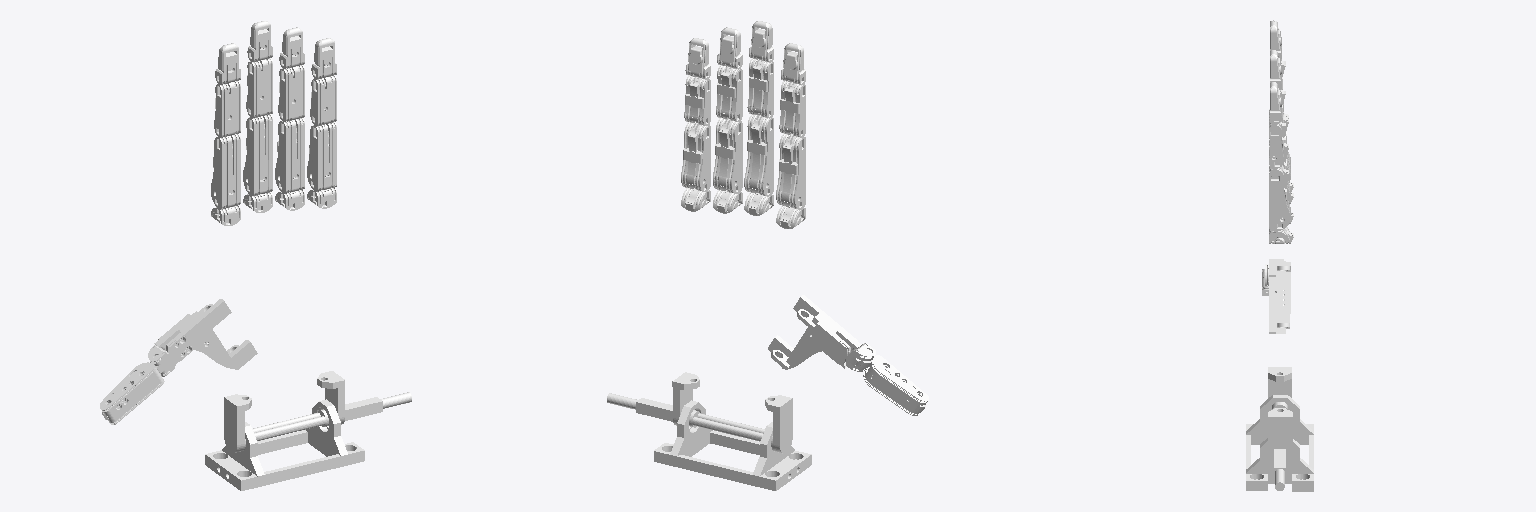
--- Render facts (derived) ---
The picture shows the robot from 3 angles, left to right: view 1: azimuth 30°, elevation 25°; view 2: azimuth 150°, elevation 25°; view 3: azimuth 270°, elevation 25°; orthographic projection.
Model converted_robot with 99 links and 98 joints (38 revolute, 60 fixed), rooted at hand_root, posed every joint at zero.
Visible links, largest first — view 1: wrist_1, wrist_2, thumb_base, middle_pp, thumb_mp, index_pp, ring_pp, pinky_pp, middle_mp, index_mp, ring_mp, pinky_mp (+5 smaller); view 2: wrist_1, wrist_2, thumb_base, middle_pp, ring_pp, thumb_mp, index_pp, pinky_pp, middle_mp, ring_mp, index_mp, pinky_mp (+7 smaller); view 3: wrist_1, wrist_2, thumb_base, pinky_pp, pinky_mp.
Boxes of the visible links, bbox=[...] form: wrist_1: bbox=[205, 399, 364, 490]; wrist_2: bbox=[224, 371, 411, 452]; thumb_base: bbox=[154, 299, 257, 369]; middle_pp: bbox=[243, 114, 272, 195]; thumb_mp: bbox=[100, 362, 164, 424]; index_pp: bbox=[211, 134, 240, 209]; ring_pp: bbox=[275, 118, 304, 193]; pinky_pp: bbox=[307, 122, 336, 191]; middle_mp: bbox=[246, 58, 272, 118]; index_mp: bbox=[214, 81, 240, 137]; ring_mp: bbox=[278, 65, 304, 121]; pinky_mp: bbox=[310, 75, 336, 126]; wrist_1: bbox=[654, 400, 811, 490]; wrist_2: bbox=[607, 372, 792, 453]; thumb_base: bbox=[768, 295, 861, 369]; middle_pp: bbox=[744, 114, 773, 196]; ring_pp: bbox=[713, 118, 742, 193]; thumb_mp: bbox=[863, 355, 928, 415]; index_pp: bbox=[776, 133, 805, 209]; pinky_pp: bbox=[681, 122, 710, 191]; middle_mp: bbox=[747, 58, 773, 118]; ring_mp: bbox=[716, 65, 742, 121]; index_mp: bbox=[779, 81, 805, 137]; pinky_mp: bbox=[684, 75, 710, 125]; wrist_1: bbox=[1246, 395, 1313, 491]; wrist_2: bbox=[1268, 367, 1292, 490]; thumb_base: bbox=[1269, 259, 1290, 333]; pinky_pp: bbox=[1269, 165, 1290, 230]; pinky_mp: bbox=[1269, 121, 1285, 168].
Bounding box of the posed robot: 0.2118 × 0.042 × 0.2889 m (x, y, z).
Meshes: 24 distinct files referenced, 22 mesh visuals loaded (22 binary STL); not drawn: 2 (reference not matched to a file when rendering).

URDF robot description (converted_robot):
<?xml version="1.0" ?>
<robot name="converted_robot">
   <link name="hand_root">
      <inertial>
         <origin xyz="0.0 0.0 0.0" rpy="0.0 0.0 0.0"/>
         <mass value="0.0"/>
         <inertia ixx="0.0" iyy="0.0" izz="0.0" ixy="0" ixz="0" iyz="0"/>
      </inertial>
   </link>
   <link name="tower">
      <inertial>
         <origin xyz="-0.012935936040143856 -0.1250798428773428 -0.0001711974765966958" rpy="1.5378790315260968 -1.5027760115029016 -2.9935622097884105"/>
         <mass value="0.791434072813212"/>
         <inertia ixx="0.0014927212233772481" iyy="0.0014084035095714637" izz="0.0005242023751306965" ixy="0" ixz="0" iyz="0"/>
      </inertial>
      <visual name="tower">
         <origin xyz="-0.012935936040143856 -0.1250798428773428 -0.0001711974765966958" rpy="1.5378790315260975 -1.5027760115029016 -2.9935622097884114"/>
         <geometry>
            <mesh filename="package://viz/models/URDF_Simulation/converted_tower.stl"/>
         </geometry>
         <material name="white"/>
      </visual>
   </link>
   <link name="root2tower_fixed_jointbody">
      <inertial>
         <origin xyz="0.0 0.0 0.0" rpy="0.0 0.0 0.0"/>
         <mass value="0.001"/>
         <inertia ixx="1e-09" iyy="1e-09" izz="1e-09" ixy="0" ixz="0" iyz="0"/>
      </inertial>
   </link>
   <joint type="fixed" name="root2tower_fixed">
      <parent link="hand_root"/>
      <child link="root2tower_fixed_jointbody"/>
      <origin xyz="-0.0132 0.0 0.017" rpy="1.5715926535897906 2.113124342173478e-09 3.1415900000008414"/>
   </joint>
   <joint type="fixed" name="root2tower_fixed_offset">
      <parent link="root2tower_fixed_jointbody"/>
      <child link="tower"/>
      <origin xyz="-0.0 -0.0 -0.0" rpy="0.0 0.0 0.0"/>
   </joint>
   <link name="wrist_1">
      <inertial>
         <origin xyz="-0.014332709818484647 -0.06084959605214876 0.00010921642133937277" rpy="1.5708004130834685 1.528474215972686e-05 1.5650097032208263"/>
         <mass value="0.058899626515319804"/>
         <inertia ixx="3.753569655681751e-05" iyy="3.3836482834552355e-05" izz="9.284974380360733e-06" ixy="0" ixz="0" iyz="0"/>
      </inertial>
      <visual name="wrist_3">
         <origin xyz="-0.014332709818484647 -0.06084959605214876 0.00010921642133937277" rpy="1.5708004130834687 1.5284742159948905e-05 1.5650097032208266"/>
         <geometry>
            <mesh filename="package://viz/models/URDF_Simulation/converted_wrist_3.stl"/>
         </geometry>
         <material name="white"/>
      </visual>
   </link>
   <link name="tower2wrist_1_fixed_jointbody">
      <inertial>
         <origin xyz="0.0 0.0 0.0" rpy="0.0 0.0 0.0"/>
         <mass value="0.001"/>
         <inertia ixx="1e-09" iyy="1e-09" izz="1e-09" ixy="0" ixz="0" iyz="0"/>
      </inertial>
   </link>
   <joint type="fixed" name="tower2wrist_1_fixed">
      <parent link="tower"/>
      <child link="tower2wrist_1_fixed_jointbody"/>
      <origin xyz="0.0 0.0 0.0" rpy="0.0 0.0 0.0"/>
   </joint>
   <joint type="fixed" name="tower2wrist_1_fixed_offset">
      <parent link="tower2wrist_1_fixed_jointbody"/>
      <child link="wrist_1"/>
      <origin xyz="-0.0 -0.0 -0.0" rpy="0.0 0.0 0.0"/>
   </joint>
   <link name="wrist_2">
      <inertial>
         <origin xyz="-0.011749586365455653 -0.03917818231353612 0.00011052945291615456" rpy="-1.8092865401767204 -1.5661853121132732 -1.2638218544209279"/>
         <mass value="0.020757970653264464"/>
         <inertia ixx="2.3183204340638643e-05" iyy="2.2130131511678158e-05" izz="1.4714793045715701e-06" ixy="0" ixz="0" iyz="0"/>
      </inertial>
      <visual name="wrist_1">
         <origin xyz="-0.04685505325225877 -0.034649420343556225 0.0002783448473589519" rpy="1.5707963267948966 0.0 2.987432783863472"/>
         <geometry>
            <mesh filename="package://viz/models/URDF_Simulation/converted_wrist_1.stl"/>
         </geometry>
         <material name="white"/>
      </visual>
      <visual name="wrist_2">
         <origin xyz="-0.004873884468205962 -0.04006517855744275 7.766139194779857e-05" rpy="1.3548527125878218 -1.5707870578414207 1.9119197405906991"/>
         <geometry>
            <mesh filename="package://viz/models/URDF_Simulation/converted_wrist_2.stl"/>
         </geometry>
         <material name="white"/>
      </visual>
   </link>
   <link name="wrist_jointbody">
      <inertial>
         <origin xyz="0.0 0.0 0.0" rpy="0.0 0.0 0.0"/>
         <mass value="0.001"/>
         <inertia ixx="1e-09" iyy="1e-09" izz="1e-09" ixy="0" ixz="0" iyz="0"/>
      </inertial>
   </link>
   <joint type="revolute" name="wrist">
      <parent link="wrist_1"/>
      <child link="wrist_jointbody"/>
      <origin xyz="0.0 -0.0463 0.0" rpy="0.0 0.0 0.0"/>
      <axis xyz="1.0 0.0 0.0"/>
      <limit lower="-2.27" upper="2.27" effort="100" velocity="100"/>
   </joint>
   <joint type="fixed" name="wrist_offset">
      <parent link="wrist_jointbody"/>
      <child link="wrist_2"/>
      <origin xyz="-0.0 0.0463 -0.0" rpy="0.0 0.0 0.0"/>
   </joint>
   <link name="palm">
      <inertial>
         <origin xyz="-0.009750183589572366 0.04021403488529142 -0.00039237105510929893" rpy="2.3172560848423656 -1.562874237700241 2.192255222809746"/>
         <mass value="0.16567872925570942"/>
         <inertia ixx="0.0002358825828115673" iyy="0.00017096319828277548" izz="6.854952483029862e-05" ixy="0" ixz="0" iyz="0"/>
      </inertial>
      <visual name="palm_tower">
         <origin xyz="-0.009750183589572366 0.04021403488529142 -0.00039237105510929893" rpy="2.3172560848423656 -1.562874237700241 2.192255222809746"/>
         <geometry>
            <mesh filename="package://viz/models/URDF_Simulation/converted_palm_tower.stl"/>
         </geometry>
         <material name="white"/>
      </visual>
   </link>
   <link name="wrist_22palm_fixed_jointbody">
      <inertial>
         <origin xyz="0.0 0.0 0.0" rpy="0.0 0.0 0.0"/>
         <mass value="0.001"/>
         <inertia ixx="1e-09" iyy="1e-09" izz="1e-09" ixy="0" ixz="0" iyz="0"/>
      </inertial>
   </link>
   <joint type="fixed" name="wrist_22palm_fixed">
      <parent link="wrist_2"/>
      <child link="wrist_22palm_fixed_jointbody"/>
      <origin xyz="0.0 0.0 0.0" rpy="0.0 0.0 0.0"/>
   </joint>
   <joint type="fixed" name="wrist_22palm_fixed_offset">
      <parent link="wrist_22palm_fixed_jointbody"/>
      <child link="palm"/>
      <origin xyz="-0.0 -0.0 -0.0" rpy="0.0 0.0 0.0"/>
   </joint>
   <!-- THUMB START -->
   <link name="thumb_base">
      <inertial>
         <origin xyz="-0.05388722858794558 -0.08972924545530461 0.0056400640968846715" rpy="1.1981321937913696 -1.4948979105066995 0.7661853183228415"/>
         <mass value="0.015400950262490496"/>
         <inertia ixx="4.057013831282678e-06" iyy="3.3189900464939896e-06" izz="1.0886313012479005e-06" ixy="0" ixz="0" iyz="0"/>
      </inertial>
      <visual name="thumb_base">
         <!-- <origin xyz="-0.05388722858794558 -0.08972924545530461 0.0056400640968846715" rpy="1.1981321937913676 -1.4948979105066995 0.7661853183228435"/> -->
         <origin xyz="0.01388722858794558 -0.02372924545530461 -0.0026400640968846715" rpy="1.1981321937913676 -1.4948979105066995 0.7661853183228435"/>
         <geometry>
            <mesh filename="package://viz/models/URDF_Simulation/converted_thumb_base.stl"/>
         </geometry>
         <material name="white"/>
      </visual>
   </link>
   <link name="root2thumb_base_jointbody">
      <inertial>
         <origin xyz="0.0 0.0 0.0" rpy="0.0 0.0 0.0"/>
         <mass value="0.001"/>
         <inertia ixx="1e-09" iyy="1e-09" izz="1e-09" ixy="0" ixz="0" iyz="0"/>
      </inertial>
   </link>
   <!-- THUMB -->
   <joint type="revolute" name="root2thumb_base">
      <parent link="palm"/>
      <child link="root2thumb_base_jointbody"/>
      <!-- <origin xyz="0.01810025051214078 0.00810024353395844 0.002000000000000001" rpy="0.0 0.0 1.5707999999999998"/> -->
      <origin xyz="0.01810025051214078 0.00810024353395844 0.002000000000000001" rpy="0.0 0.0 1.5707999999999998"/>
      <axis xyz="-0.872045190552692 0.48942536267945813 0.0"/>
      <limit lower="0.0" upper="2.27" effort="100" velocity="100"/>
   </joint>
   <joint type="fixed" name="root2thumb_base_offset">
      <parent link="root2thumb_base_jointbody"/>
      <child link="thumb_base"/>
      <!-- <origin xyz="0.0682 0.0663 -0.009" rpy="0.0 0.0 0.0"/> -->
      <origin xyz="0 0 0" rpy="0.0 0.0 0.0"/>
   </joint>
<!-- GSIIIIIIIIIIIIIIIIIIIIIIIIIIIIIIIIIIIIIIIIIIIIIIIIIIIIIIIIIIIIIIIIIIIIIIIIIIIIIIII -->

   <!-- THUMBBB -->
   <link name="thumb_um_virt">
      <inertial>
         <origin xyz="0.007088722858794558 -0.00312924545530461 -0.0026400640968846715" rpy="0.0 0.0 0.0"/>
         <mass value="0.001"/>
         <inertia ixx="4e-10" iyy="4e-10" izz="3e-10" ixy="0" ixz="0" iyz="0"/>
      </inertial>
   </link>
   <link name="thumb_abd_virt_jointbody">
      <inertial>
         <origin xyz="0.007088722858794558 -0.00312924545530461 -0.0026400640968846715" rpy="0.0 0.0 0.0"/>
         <mass value="0.001"/>
         <inertia ixx="1e-09" iyy="1e-09" izz="1e-09" ixy="0" ixz="0" iyz="0"/>
      </inertial>
   </link>
   
<!-- MIDDLE THUMB -->
   <joint type="revolute" name="thumb_abd_virt">
      <parent link="thumb_base"/>
      <child link="thumb_abd_virt_jointbody"/>
      <origin xyz="0.007088722858794558 -0.0312924545530461 -0.0026400640968846715" rpy="0.0 0.0 0.0"/>
      <!-- <origin xyz="-0.05696 -0.11383 0.0" rpy="0.0 0.0 0.0"/> -->
      <axis xyz="0.0 0.0 1.0"/>
      <limit lower="-0.523599" upper="0.523599" effort="100" velocity="100"/>
   </joint>

   
   <joint type="fixed" name="thumb_abd_virt_offset">
      <parent link="thumb_abd_virt_jointbody"/>
      <child link="thumb_um_virt"/>
      <!-- <origin xyz="0.05696 0.11383 -0.0" rpy="0.0 0.0 0.0"/> -->
      <origin xyz="0 -0 0" rpy="0.0 0.0 0.0"/>
   </joint>

   
   <link name="thumb_um">
      <inertial>
         <!-- <origin xyz="0.06002974424873159 0.11906183356660797 0.0062186112018148216" rpy="-0.0012484400387758887 0.391076545340286 1.0465689521908192"/> -->
         <!-- <origin xyz="-0.06002974424873159 -0.02906183356660797 0.0062186112018148216" rpy="-0.0012484400387758887 0.391076545340286 1.0465689521908192"/> -->
         <origin xyz="0 0 0" rpy="-0.0012484400387758887 0.391076545340286 1.0465689521908192"/>
         <mass value="0.0020561829545655487"/>
         <inertia ixx="5.3193394084926844e-08" iyy="4.4699706473833634e-08" izz="4.1958930900945313e-08" ixy="0" ixz="0" iyz="0"/>
      </inertial>
      <visual name="thumb_um">
         <origin xyz="0 0 0" rpy="-0.0012484400387758887 0.391076545340286 1.0465689521908192"/>
         <!-- <origin xyz="-0.06002974424873159 -0.04906183356660797 0.0062186112018148216" rpy="-0.0012484400387758887 0.391076545340286 1.0465689521908192"/> -->
         <geometry>
            <mesh filename="package://viz/models/URDF_Simulation/converted_thumb_um.stl"/>
         </geometry>
         <material name="white"/>
      </visual>
   </link>
   <link name="thumb_abd_jointbody">
      <inertial>
         <origin xyz="0.0028088722858794558 -0.0212924545530461 -0.0026400640968846715" rpy="-0.0012484400387758887 0.391076545340286 1.0465689521908192"/>
         <!-- <origin xyz="0.0 0.0 0.0" rpy="0.0 0.0 0.0"/> -->
         <mass value="0.001"/>
         <inertia ixx="1e-09" iyy="1e-09" izz="1e-09" ixy="0" ixz="0" iyz="0"/>
      </inertial>
   </link>
   <joint type="revolute" name="thumb_abd">
      <parent link="thumb_um_virt"/>
      <child link="thumb_abd_jointbody"/>
      <!-- <origin xyz="0.0 0.0 0.0" rpy="0.0 0.0 0.0"/> -->
      <origin xyz="0.0021088722858794558 -0.0212924545530461 -0.0026400640968846715" rpy="0.0 0.0 0.0"/>
      <axis xyz="0.0 0.0 1.0"/>
      <limit lower="-0.523599" upper="0.523599" effort="100" velocity="100"/>
   </joint>
   <joint type="fixed" name="thumb_abd_offset">
      <parent link="thumb_abd_jointbody"/>
      <child link="thumb_um"/>
      <!-- <origin xyz="0.05696 0.11383 -0.0" rpy="0.0 0.0 0.0"/> -->
      <origin xyz="0 0 0" rpy="0.0 0.0 0.0"/>
   </joint>




   <!-- NOOOOOOOOOOOOOOOOOOOOOOOOOOOOOOOOOOOOOOOOOOOOOOOOOOOOOOOOO -->
   <link name="thumb_mp_virt">
      <inertial>
         <!-- <origin xyz="0.009525 -0.041187 0.083647" rpy="-0.22291598477092758 -1.2682876286119864 0.3020329839181935"/> -->
         <origin xyz="0.002088722858794558 -0.0112924545530461 -0.0026400640968846715" rpy="-0.22291598477092758 -1.2682876286119864 0.3020329839181935"/>
         <mass value="0.001"/>
         <inertia ixx="4e-10" iyy="4e-10" izz="3e-10" ixy="0" ixz="0" iyz="0"/>
      </inertial>
   </link>
   <link name="thumb_um2mp_virt_jointbody">
      <inertial>
         <origin xyz="0.002088722858794558 -0.0192924545530461 -0.0026400640968846715" rpy="0.0 0.0 0.0"/>
         <mass value="0.001"/>
         <inertia ixx="1e-09" iyy="1e-09" izz="1e-09" ixy="0" ixz="0" iyz="0"/>
      </inertial>
   </link>
   <joint type="revolute" name="thumb_um2mp_virt">
      <parent link="thumb_um"/>
      <child link="thumb_um2mp_virt_jointbody"/>
      <origin xyz="-0.0 -0.0 0.0" rpy="0.0 0.0 0.0"/>
      <!-- <origin xyz="-0.072947 -0.114166 0.008" rpy="0.0 0.0 0.0"/> -->
      <axis xyz="-0.872045190552692 0.48942536267945813 0.0"/>
      <limit lower="-0.16" upper="1.308" effort="100" velocity="100"/>
   </joint>
   <joint type="fixed" name="thumb_um2mp_virt_offset">
      <parent link="thumb_um2mp_virt_jointbody"/>
      <child link="thumb_mp_virt"/>
      <!-- <origin xyz="0.072947 0.114166 -0.008" rpy="0.0 0.0 0.0"/> -->
      <origin xyz="0.0 0.0 -0.0" rpy="0.0 0.0 0.0"/>
   </joint>

   <link name="thumb_mp">
      <inertial>
         <origin xyz="-0.01038088722858794558 -0.0512924545530461 -0.0026400640968846715" rpy="2.9311721332498637 -1.5138717843315774 -1.881310598490373"/>
         <mass value="0.007559331420198066"/>
         <inertia ixx="9.573996733464855e-07" iyy="9.284932904903027e-07" izz="1.7221260520814514e-07" ixy="0" ixz="0" iyz="0"/>
      </inertial>
      <visual name="thumb_mp">
         <origin xyz="0 0 0" rpy="2.9311721332498664 -1.5138717843315772 -1.8813105984903749"/>
         <!-- <origin xyz="-0.07215929044573305 -0.14052795432320075 0.00551798779969882" rpy="2.9311721332498664 -1.5138717843315772 -1.8813105984903749"/> -->
         <geometry>
            <mesh filename="package://viz/models/URDF_Simulation/converted_thumb_mp.stl"/>
         </geometry>
         <material name="white"/>
      </visual>
   </link>
   <link name="thumb_um2mp_jointbody">
      <inertial>
         <!-- <origin xyz="0.0 0.0 0.0" rpy="0.0 0.0 0.0"/> -->
         <origin xyz="-0.01438088722858794558 -0.0912924545530461 -0.0026400640968846715" rpy="0.0 0.0 0.0"/>
         <mass value="0.001"/>
         <inertia ixx="1e-09" iyy="1e-09" izz="1e-09" ixy="0" ixz="0" iyz="0"/>
      </inertial>
   </link>
   <joint type="revolute" name="thumb_um2mp">
      <parent link="thumb_mp_virt"/>
      <child link="thumb_um2mp_jointbody"/>
      <origin xyz="-0.01438088722858794558 -0.0212924545530461 -0.0026400640968846715" rpy="0.0 0.0 0.0"/>
      <!-- <origin xyz="-0.062947 -0.124166 0.008" rpy="0.0 0.0 0.0"/> -->
      <axis xyz="-0.872045190552692 0.48942536267945813 0.0"/>
      <limit lower="-0.16" upper="1.308" effort="100" velocity="100"/>
   </joint>
   <joint type="fixed" name="thumb_um2mp_offset">
      <parent link="thumb_um2mp_jointbody"/>
      <child link="thumb_mp"/>
      <origin xyz="0 0 0" rpy="0.0 0.0 0.0"/>
      <!-- <origin xyz="0.062947 0.124166 -0.008" rpy="0.0 0.0 0.0"/> -->
   </joint>




   <!-- THUMB END -->
   <link name="index_um_virt">
      <inertial>
         <origin xyz="0.0 0.0 0.0" rpy="0.0 0.0 0.0"/>
         <mass value="0.001"/>
         <inertia ixx="4e-10" iyy="4e-10" izz="3e-10" ixy="0" ixz="0" iyz="0"/>
      </inertial>
   </link>
   <link name="index_abd_virt_jointbody">
      <inertial>
         <origin xyz="0.0 0.0 0.0" rpy="0.0 0.0 0.0"/>
         <mass value="0.001"/>
         <inertia ixx="1e-09" iyy="1e-09" izz="1e-09" ixy="0" ixz="0" iyz="0"/>
      </inertial>
   </link>
   <joint type="revolute" name="index_abd_virt">
      <parent link="palm"/>
      <child link="index_abd_virt_jointbody"/>
      <origin xyz="0.0250405 0.0852 0.0" rpy="-1.5707963267948966 1.5707963267948966 0.0"/>
      <axis xyz="1.0 0.0 0.0"/>
      <limit lower="-0.264" upper="0.264" effort="100" velocity="100"/>
   </joint>
   <joint type="fixed" name="index_abd_virt_offset">
      <parent link="index_abd_virt_jointbody"/>
      <child link="index_um_virt"/>
      <origin xyz="-0.0 -0.0 -0.0" rpy="0.0 0.0 0.0"/>
   </joint>
   <link name="index_um">
      <inertial>
         <origin xyz="0.0003158098365906876 -0.00022882513673609314 -0.0036213650800712305" rpy="3.11344183213456 -1.2906456267839208 -3.102620114783569"/>
         <mass value="0.0017045161564725113"/>
         <inertia ixx="4.089294671130922e-08" iyy="3.323975046971373e-08" izz="2.9482536116204133e-08" ixy="0" ixz="0" iyz="0"/>
      </inertial>
      <visual name="index_um">
         <origin xyz="0.0003158098365906876 -0.00022882513673609314 -0.0036213650800712305" rpy="3.11344183213456 -1.2906456267839206 -3.102620114783569"/>
         <geometry>
            <mesh filename="package://viz/models/URDF_Simulation/converted_index_um.stl"/>
         </geometry>
         <material name="white"/>
      </visual>
   </link>
   <link name="index_abd_jointbody">
      <inertial>
         <origin xyz="0.0 0.0 0.0" rpy="0.0 0.0 0.0"/>
         <mass value="0.001"/>
         <inertia ixx="1e-09" iyy="1e-09" izz="1e-09" ixy="0" ixz="0" iyz="0"/>
      </inertial>
   </link>
   <joint type="revolute" name="index_abd">
      <parent link="index_um_virt"/>
      <child link="index_abd_jointbody"/>
      <origin xyz="0.0 0.0 0.018" rpy="0.0 0.0 0.0"/>
      <axis xyz="1.0 0.0 0.0"/>
      <limit lower="-0.264" upper="0.264" effort="100" velocity="100"/>
   </joint>
   <joint type="fixed" name="index_abd_offset">
      <parent link="index_abd_jointbody"/>
      <child link="index_um"/>
      <origin xyz="-0.0 -0.0 -0.0" rpy="0.0 0.0 0.0"/>
   </joint>
   <link name="index_pp_virt">
      <inertial>
         <origin xyz="0.0 0.0 0.0" rpy="0.0 0.0 0.0"/>
         <mass value="0.001"/>
         <inertia ixx="4e-10" iyy="4e-10" izz="3e-10" ixy="0" ixz="0" iyz="0"/>
      </inertial>
   </link>
   <link name="root2index_pp_virt_jointbody">
      <inertial>
         <origin xyz="0.0 0.0 0.0" rpy="0.0 0.0 0.0"/>
         <mass value="0.001"/>
         <inertia ixx="1e-09" iyy="1e-09" izz="1e-09" ixy="0" ixz="0" iyz="0"/>
      </inertial>
   </link>
   <joint type="revolute" name="root2index_pp_virt">
      <parent link="index_um"/>
      <child link="root2index_pp_virt_jointbody"/>
      <origin xyz="0.00270000102 5.9952065978308155e-19 -0.00743303472" rpy="0.0 0.0 -1.5707963267948963"/>
      <axis xyz="1.0 0.0 0.0"/>
      <limit lower="-0.157" upper="0.829" effort="100" velocity="100"/>
   </joint>
   <joint type="fixed" name="root2index_pp_virt_offset">
      <parent link="root2index_pp_virt_jointbody"/>
      <child link="index_pp_virt"/>
      <origin xyz="-0.0 -0.00270000102 -0.0" rpy="0.0 0.0 0.0"/>
   </joint>
   <link name="index_pp">
      <inertial>
         <origin xyz="0.0001596722768568773 0.0010995555377848291 0.01288169966540817" rpy="-0.0005635947558751964 0.04346039485505382 1.5731856208599835"/>
         <mass value="0.006934011983539235"/>
         <inertia ixx="1.1618492939118344e-06" iyy="1.1338221765005137e-06" izz="1.5329642762575548e-07" ixy="0" ixz="0" iyz="0"/>
      </inertial>
      <visual name="index_pp">
         <origin xyz="0.0001596722768568773 0.0010995555377848291 0.01288169966540817" rpy="-0.0005635947558753074 0.0434603948550536 1.5731856208599835"/>
         <geometry>
            <mesh filename="package://viz/models/URDF_Simulation/converted_index_pp.stl"/>
         </geometry>
         <material name="white"/>
      </visual>
   </link>
   <link name="root2index_pp_jointbody">
      <inertial>
         <origin xyz="0.0 0.0 0.0" rpy="0.0 0.0 0.0"/>
         <mass value="0.001"/>
         <inertia ixx="1e-09" iyy="1e-09" izz="1e-09" ixy="0" ixz="0" iyz="0"/>
      </inertial>
   </link>
   <joint type="revolute" name="root2index_pp">
      <parent link="index_pp_virt"/>
      <child link="root2index_pp_jointbody"/>
      <origin xyz="0.0 0.00250000102 0.018" rpy="0.0 0.0 0.0"/>
      <axis xyz="1.0 0.0 0.0"/>
      <limit lower="-0.157" upper="0.829" effort="100" velocity="100"/>
   </joint>
   <joint type="fixed" name="root2index_pp_offset">
      <parent link="root2index_pp_jointbody"/>
      <child link="index_pp"/>
      <origin xyz="-0.0 -0.00250000102 -0.0" rpy="0.0 0.0 0.0"/>
   </joint>
   <link name="index_pp_sens">
      <inertial>
         <origin xyz="0.0 -0.004 0.018" rpy="0.0 0.0 0.0"/>
         <mass value="0.0"/>
         <inertia ixx="0.0" iyy="0.0" izz="0.0" ixy="0" ixz="0" iyz="0"/>
      </inertial>
   </link>
   <link name="index_pp2index_pp_sens_fixed_jointbody">
      <inertial>
         <origin xyz="0.0 0.0 0.0" rpy="0.0 0.0 0.0"/>
         <mass value="0.001"/>
         <inertia ixx="1e-09" iyy="1e-09" izz="1e-09" ixy="0" ixz="0" iyz="0"/>
      </inertial>
   </link>
   <joint type="fixed" name="index_pp2index_pp_sens_fixed">
      <parent link="index_pp"/>
      <child link="index_pp2index_pp_sens_fixed_jointbody"/>
      <origin xyz="0.0 -0.004 0.018" rpy="0.0 0.0 0.0"/>
   </joint>
   <joint type="fixed" name="index_pp2index_pp_sens_fixed_offset">
      <parent link="index_pp2index_pp_sens_fixed_jointbody"/>
      <child link="index_pp_sens"/>
      <origin xyz="-0.0 -0.0 -0.0" rpy="0.0 0.0 0.0"/>
   </joint>
   <link name="index_mp_virt">
      <inertial>
         <origin xyz="0.0 0.0 0.0" rpy="0.0 0.0 0.0"/>
         <mass value="0.001"/>
         <inertia ixx="4e-10" iyy="4e-10" izz="3e-10" ixy="0" ixz="0" iyz="0"/>
      </inertial>
   </link>
   <link name="index_pp2mp_virt_jointbody">
      <inertial>
         <origin xyz="0.0 0.0 0.0" rpy="0.0 0.0 0.0"/>
         <mass value="0.001"/>
         <inertia ixx="1e-09" iyy="1e-09" izz="1e-09" ixy="0" ixz="0" iyz="0"/>
      </inertial>
   </link>
   <joint type="revolute" name="index_pp2mp_virt">
      <parent link="index_pp"/>
      <child link="index_pp2mp_virt_jointbody"/>
      <origin xyz="0.0 0.00370000102 0.03101612481" rpy="0.0 0.0 0.0"/>
      <axis xyz="1.0 0.0 0.0"/>
      <limit lower="-0.131" upper="0.96" effort="100" velocity="100"/>
   </joint>
   <joint type="fixed" name="index_pp2mp_virt_offset">
      <parent link="index_pp2mp_virt_jointbody"/>
      <child link="index_mp_virt"/>
      <origin xyz="-0.0 -0.00370000102 -0.0" rpy="0.0 0.0 0.0"/>
   </joint>
   <link name="index_mp">
      <inertial>
         <origin xyz="0.00011615953600365228 0.002416765310794026 0.01109535507776531" rpy="0.005169070242558416 0.005498569028424383 1.568902720116945"/>
         <mass value="0.00391743874952473"/>
         <inertia ixx="3.710686435522325e-07" iyy="3.400719694509783e-07" izz="7.116706680564789e-08" ixy="0" ixz="0" iyz="0"/>
      </inertial>
      <visual name="index_mp">
         <origin xyz="0.00011615953600365228 0.002416765310794026 0.01109535507776531" rpy="0.005169070242558416 0.005498569028424383 1.568902720116945"/>
         <geometry>
            <mesh filename="package://viz/models/URDF_Simulation/converted_index_mp.stl"/>
         </geometry>
         <material name="white"/>
      </visual>
   </link>
   <link name="index_pp2mp_jointbody">
      <inertial>
         <origin xyz="0.0 0.0 0.0" rpy="0.0 0.0 0.0"/>
         <mass value="0.001"/>
         <inertia ixx="1e-09" iyy="1e-09" izz="1e-09" ixy="0" ixz="0" iyz="0"/>
      </inertial>
   </link>
   <joint type="revolute" name="index_pp2mp">
      <parent link="index_mp_virt"/>
      <child link="index_pp2mp_jointbody"/>
      <origin xyz="0.0 0.00350000102 0.012" rpy="0.0 0.0 0.0"/>
      <axis xyz="1.0 0.0 0.0"/>
      <limit lower="-0.131" upper="0.96" effort="100" velocity="100"/>
   </joint>
   <joint type="fixed" name="index_pp2mp_offset">
      <parent link="index_pp2mp_jointbody"/>
      <child link="index_mp"/>
      <origin xyz="-0.0 -0.00350000102 -0.0" rpy="0.0 0.0 0.0"/>
   </joint>
   <link name="index_dp_virt">
      <inertial>
         <origin xyz="0.0 0.0 0.0" rpy="0.0 0.0 0.0"/>
         <mass value="0.001"/>
         <inertia ixx="4e-10" iyy="4e-10" izz="3e-10" ixy="0" ixz="0" iyz="0"/>
      </inertial>
   </link>
   <link name="index_mp2dp_virt_jointbody">
      <inertial>
         <origin xyz="0.0 0.0 0.0" rpy="0.0 0.0 0.0"/>
         <mass value="0.001"/>
         <inertia ixx="1e-09" iyy="1e-09" izz="1e-09" ixy="0" ixz="0" iyz="0"/>
      </inertial>
   </link>
   <joint type="revolute" name="index_mp2dp_virt">
      <parent link="index_mp"/>
      <child link="index_mp2dp_virt_jointbody"/>
      <origin xyz="0.0 0.00370000102 0.0235" rpy="0.0 0.0 0.0"/>
      <axis xyz="1.0 0.0 0.0"/>
      <limit lower="-0.093" upper="0.682" effort="100" velocity="100"/>
   </joint>
   <joint type="fixed" name="index_mp2dp_virt_offset">
      <parent link="index_mp2dp_virt_jointbody"/>
      <child link="index_dp_virt"/>
      <origin xyz="-0.0 -0.00370000102 -0.0" rpy="0.0 0.0 0.0"/>
   </joint>
   <link name="index_dp">
      <inertial>
         <origin xyz="0.00011951811090689032 0.003120678557622198 0.007573116228122234" rpy="-0.001893780008492163 0.05085216250260771 1.5852087171365512"/>
         <mass value="0.0021639273972605794"/>
         <inertia ixx="1.0745931609543126e-07" iyy="9.222697287325353e-08" izz="2.9490220566203e-08" ixy="0" ixz="0" iyz="0"/>
      </inertial>
      <visual name="index_dp">
         <origin xyz="0.00011951811090689032 0.003120678557622198 0.007573116228122234" rpy="-0.001893780008492163 0.05085216250260771 1.5852087171365514"/>
         <geometry>
            <mesh filename="package://viz/models/URDF_Simulation/converted_index_dp.stl"/>
         </geometry>
         <material name="white"/>
      </visual>
   </link>
   <link name="index_mp2dp_jointbody">
      <inertial>
         <origin xyz="0.0 0.0 0.0" rpy="0.0 0.0 0.0"/>
         <mass value="0.001"/>
         <inertia ixx="1e-09" iyy="1e-09" izz="1e-09" ixy="0" ixz="0" iyz="0"/>
      </inertial>
   </link>
   <joint type="revolute" name="index_mp2dp">
      <parent link="index_dp_virt"/>
      <child link="index_mp2dp_jointbody"/>
      <origin xyz="0.0 0.00350000102 0.009" rpy="0.0 0.0 0.0"/>
      <axis xyz="1.0 0.0 0.0"/>
      <limit lower="-0.093" upper="0.682" effort="100" velocity="100"/>
   </joint>
   <joint type="fixed" name="index_mp2dp_offset">
      <parent link="index_mp2dp_jointbody"/>
      <child link="index_dp"/>
      <origin xyz="-0.0 -0.00350000102 -0.0" rpy="0.0 0.0 0.0"/>
   </joint>
   <link name="index_fingertip">
      <inertial>
         <origin xyz="0.0 0.0 0.01" rpy="0.0 0.0 0.0"/>
         <mass value="0.0"/>
         <inertia ixx="0.0" iyy="0.0" izz="0.0" ixy="0" ixz="0" iyz="0"/>
      </inertial>
   </link>
   <link name="index_dp2index_fingertip_fixed_jointbody">
      <inertial>
         <origin xyz="0.0 0.0 0.0" rpy="0.0 0.0 0.0"/>
         <mass value="0.001"/>
         <inertia ixx="1e-09" iyy="1e-09" izz="1e-09" ixy="0" ixz="0" iyz="0"/>
      </inertial>
   </link>
   <joint type="fixed" name="index_dp2index_fingertip_fixed">
      <parent link="index_dp"/>
      <child link="index_dp2index_fingertip_fixed_jointbody"/>
      <origin xyz="0.0 0.0 0.01" rpy="0.0 0.0 0.0"/>
   </joint>
   <joint type="fixed" name="index_dp2index_fingertip_fixed_offset">
      <parent link="index_dp2index_fingertip_fixed_jointbody"/>
      <child link="index_fingertip"/>
      <origin xyz="-0.0 -0.0 -0.0" rpy="0.0 0.0 0.0"/>
   </joint>
   <link name="middle_um_virt">
      <inertial>
         <origin xyz="0.0 0.0 0.0" rpy="0.0 0.0 0.0"/>
         <mass value="0.001"/>
         <inertia ixx="4e-10" iyy="4e-10" izz="3e-10" ixy="0" ixz="0" iyz="0"/>
      </inertial>
   </link>
   <link name="middle_abd_virt_jointbody">
      <inertial>
         <origin xyz="0.0 0.0 0.0" rpy="0.0 0.0 0.0"/>
         <mass value="0.001"/>
         <inertia ixx="1e-09" iyy="1e-09" izz="1e-09" ixy="0" ixz="0" iyz="0"/>
      </inertial>
   </link>
   <joint type="revolute" name="middle_abd_virt">
      <parent link="palm"/>
      <child link="middle_abd_virt_jointbody"/>
      <origin xyz="0.0036 0.0886 0.0" rpy="-1.5707963267948966 1.5707963267948966 0.0"/>
      <axis xyz="1.0 0.0 0.0"/>
      <limit lower="-0.264" upper="0.264" effort="100" velocity="100"/>
   </joint>
   <joint type="fixed" name="middle_abd_virt_offset">
      <parent link="middle_abd_virt_jointbody"/>
      <child link="middle_um_virt"/>
      <origin xyz="-0.0 -0.0 -0.0" rpy="0.0 0.0 0.0"/>
   </joint>
   <link name="middle_um">
      <inertial>
         <origin xyz="0.0003169177085226183 -4.3580464142454146e-05 -0.00358903262860973" rpy="3.1142767042476764 -1.2906066346792464 -3.101151560580364"/>
         <mass value="0.0017047365062490877"/>
         <inertia ixx="4.089764222360987e-08" iyy="3.324524824350021e-08" izz="2.9498620771363934e-08" ixy="0" ixz="0" iyz="0"/>
      </inertial>
      <visual name="middle_um">
         <origin xyz="0.0003169177085226183 -4.3580464142454146e-05 -0.00358903262860973" rpy="3.1142767042476764 -1.2906066346792464 -3.101151560580364"/>
         <geometry>
            <mesh filename="package://viz/models/URDF_Simulation/converted_middle_um.stl"/>
         </geometry>
         <material name="white"/>
      </visual>
   </link>
   <link name="middle_abd_jointbody">
      <inertial>
         <origin xyz="0.0 0.0 0.0" rpy="0.0 0.0 0.0"/>
         <mass value="0.001"/>
         <inertia ixx="1e-09" iyy="1e-09" izz="1e-09" ixy="0" ixz="0" iyz="0"/>
      </inertial>
   </link>
   <joint type="revolute" name="middle_abd">
      <parent link="middle_um_virt"/>
      <child link="middle_abd_jointbody"/>
      <origin xyz="0.0 0.0 0.018" rpy="0.0 0.0 0.0"/>
      <axis xyz="1.0 0.0 0.0"/>
      <limit lower="-0.264" upper="0.264" effort="100" velocity="100"/>
   </joint>
   <joint type="fixed" name="middle_abd_offset">
      <parent link="middle_abd_jointbody"/>
      <child link="middle_um"/>
      <origin xyz="-0.0 -0.0 -0.0" rpy="0.0 0.0 0.0"/>
   </joint>
   <link name="middle_pp_virt">
      <inertial>
         <origin xyz="0.0 0.0 0.0" rpy="0.0 0.0 0.0"/>
         <mass value="0.001"/>
         <inertia ixx="4e-10" iyy="4e-10" izz="3e-10" ixy="0" ixz="0" iyz="0"/>
      </inertial>
   </link>
   <link name="root2middle_pp_virt_jointbody">
      <inertial>
         <origin xyz="0.0 0.0 0.0" rpy="0.0 0.0 0.0"/>
         <mass value="0.001"/>
         <inertia ixx="1e-09" iyy="1e-09" izz="1e-09" ixy="0" ixz="0" iyz="0"/>
      </inertial>
   </link>
   <joint type="revolute" name="root2middle_pp_virt">
      <parent link="middle_um"/>
      <child link="root2middle_pp_virt_jointbody"/>
      <origin xyz="0.002700001023199999 5.99520660493624e-19 -0.00743303472" rpy="0.0 0.0 -1.5707963267948963"/>
      <axis xyz="1.0 0.0 0.0"/>
      <limit lower="-0.157" upper="0.829" effort="100" velocity="100"/>
   </joint>
   <joint type="fixed" name="root2middle_pp_virt_offset">
      <parent link="root2middle_pp_virt_jointbody"/>
      <child link="middle_pp_virt"/>
      <origin xyz="-0.0 -0.002700001023199999 -0.0" rpy="0.0 0.0 0.0"/>
   </joint>
   <link name="middle_pp">
      <inertial>
         <origin xyz="-2.677702921494884e-05 0.0012083795875931697 0.014736324701324952" rpy="-0.0005735052637568794 0.04126377469973974 1.57485854430987"/>
         <mass value="0.007431440532107334"/>
         <inertia ixx="1.4952081907729184e-06" iyy="1.4626277055074752e-06" izz="1.6114556634419006e-07" ixy="0" ixz="0" iyz="0"/>
      </inertial>
      <visual name="middle_pp">
         <origin xyz="-2.677702921494884e-05 0.0012083795875931697 0.014736324701324952" rpy="-0.0005735052637568794 0.041263774699739963 1.57485854430987"/>
         <geometry>
            <mesh filename="package://viz/models/URDF_Simulation/converted_middle_pp.stl"/>
         </geometry>
         <material name="white"/>
      </visual>
   </link>
   <link name="root2middle_pp_jointbody">
      <inertial>
         <origin xyz="0.0 0.0 0.0" rpy="0.0 0.0 0.0"/>
         <mass value="0.001"/>
         <inertia ixx="1e-09" iyy="1e-09" izz="1e-09" ixy="0" ixz="0" iyz="0"/>
      </inertial>
   </link>
   <joint type="revolute" name="root2middle_pp">
      <parent link="middle_pp_virt"/>
      <child link="root2middle_pp_jointbody"/>
      <origin xyz="0.0 0.002500001023199999 0.018" rpy="0.0 0.0 0.0"/>
      <axis xyz="1.0 0.0 0.0"/>
      <limit lower="-0.157" upper="0.829" effort="100" velocity="100"/>
   </joint>
   <joint type="fixed" name="root2middle_pp_offset">
      <parent link="root2middle_pp_jointbody"/>
      <child link="middle_pp"/>
      <origin xyz="-0.0 -0.002500001023199999 -0.0" rpy="0.0 0.0 0.0"/>
   </joint>
   <link name="middle_pp_sens">
      <inertial>
         <origin xyz="0.0 -0.004 0.022" rpy="0.0 0.0 0.0"/>
         <mass value="0.0"/>
         <inertia ixx="0.0" iyy="0.0" izz="0.0" ixy="0" ixz="0" iyz="0"/>
      </inertial>
   </link>
   <link name="middle_pp2middle_pp_sens_fixed_jointbody">
      <inertial>
         <origin xyz="0.0 0.0 0.0" rpy="0.0 0.0 0.0"/>
         <mass value="0.001"/>
         <inertia ixx="1e-09" iyy="1e-09" izz="1e-09" ixy="0" ixz="0" iyz="0"/>
      </inertial>
   </link>
   <joint type="fixed" name="middle_pp2middle_pp_sens_fixed">
      <parent link="middle_pp"/>
      <child link="middle_pp2middle_pp_sens_fixed_jointbody"/>
      <origin xyz="0.0 -0.004 0.022" rpy="0.0 0.0 0.0"/>
   </joint>
   <joint type="fixed" name="middle_pp2middle_pp_sens_fixed_offset">
      <parent link="middle_pp2middle_pp_sens_fixed_jointbody"/>
      <child link="middle_pp_sens"/>
      <origin xyz="-0.0 -0.0 -0.0" rpy="0.0 0.0 0.0"/>
   </joint>
   <link name="middle_mp_virt">
      <inertial>
         <origin xyz="0.0 0.0 0.0" rpy="0.0 0.0 0.0"/>
         <mass value="0.001"/>
         <inertia ixx="4e-10" iyy="4e-10" izz="3e-10" ixy="0" ixz="0" iyz="0"/>
      </inertial>
   </link>
   <link name="middle_pp2mp_virt_jointbody">
      <inertial>
         <origin xyz="0.0 0.0 0.0" rpy="0.0 0.0 0.0"/>
         <mass value="0.001"/>
         <inertia ixx="1e-09" iyy="1e-09" izz="1e-09" ixy="0" ixz="0" iyz="0"/>
      </inertial>
   </link>
   <joint type="revolute" name="middle_pp2mp_virt">
      <parent link="middle_pp"/>
      <child link="middle_pp2mp_virt_jointbody"/>
      <origin xyz="0.0 0.0037000000000999996 0.03501428277" rpy="0.0 0.0 0.0"/>
      <axis xyz="1.0 0.0 0.0"/>
      <limit lower="-0.131" upper="0.96" effort="100" velocity="100"/>
   </joint>
   <joint type="fixed" name="middle_pp2mp_virt_offset">
      <parent link="middle_pp2mp_virt_jointbody"/>
      <child link="middle_mp_virt"/>
      <origin xyz="-0.0 -0.0037000000000999996 -0.0" rpy="0.0 0.0 0.0"/>
   </joint>
   <link name="middle_mp">
      <inertial>
         <origin xyz="-7.28956068113046e-05 0.002462634567765748 0.01217139362029477" rpy="0.004902958340904706 0.004923370489530621 1.569477804197481"/>
         <mass value="0.004122015435614137"/>
         <inertia ixx="4.381415089977954e-07" iyy="4.050525829693079e-07" izz="7.452990013142263e-08" ixy="0" ixz="0" iyz="0"/>
      </inertial>
      <visual name="middle_mp">
         <origin xyz="-7.28956068113046e-05 0.002462634567765748 0.01217139362029477" rpy="0.004902958340904706 0.004923370489530621 1.569477804197481"/>
         <geometry>
            <mesh filename="package://viz/models/URDF_Simulation/converted_middle_mp.stl"/>
         </geometry>
         <material name="white"/>
      </visual>
   </link>
   <link name="middle_pp2mp_jointbody">
      <inertial>
         <origin xyz="0.0 0.0 0.0" rpy="0.0 0.0 0.0"/>
         <mass value="0.001"/>
         <inertia ixx="1e-09" iyy="1e-09" izz="1e-09" ixy="0" ixz="0" iyz="0"/>
      </inertial>
   </link>
   <joint type="revolute" name="middle_pp2mp">
      <parent link="middle_mp_virt"/>
      <child link="middle_pp2mp_jointbody"/>
      <origin xyz="0.0 0.0035000000000999995 0.012" rpy="0.0 0.0 0.0"/>
      <axis xyz="1.0 0.0 0.0"/>
      <limit lower="-0.131" upper="0.96" effort="100" velocity="100"/>
   </joint>
   <joint type="fixed" name="middle_pp2mp_offset">
      <parent link="middle_pp2mp_jointbody"/>
      <child link="middle_mp"/>
      <origin xyz="-0.0 -0.0035000000000999995 -0.0" rpy="0.0 0.0 0.0"/>
   </joint>
   <link name="middle_dp_virt">
      <inertial>
         <origin xyz="0.0 0.0 0.0" rpy="0.0 0.0 0.0"/>
         <mass value="0.001"/>
         <inertia ixx="4e-10" iyy="4e-10" izz="3e-10" ixy="0" ixz="0" iyz="0"/>
      </inertial>
   </link>
   <link name="middle_mp2dp_virt_jointbody">
      <inertial>
         <origin xyz="0.0 0.0 0.0" rpy="0.0 0.0 0.0"/>
         <mass value="0.001"/>
         <inertia ixx="1e-09" iyy="1e-09" izz="1e-09" ixy="0" ixz="0" iyz="0"/>
      </inertial>
   </link>
   <joint type="revolute" name="middle_mp2dp_virt">
      <parent link="middle_mp"/>
      <child link="middle_mp2dp_virt_jointbody"/>
      <origin xyz="0.0 0.0037000000000999996 0.0255" rpy="0.0 0.0 0.0"/>
      <axis xyz="1.0 0.0 0.0"/>
      <limit lower="-0.093" upper="0.682" effort="100" velocity="100"/>
   </joint>
   <joint type="fixed" name="middle_mp2dp_virt_offset">
      <parent link="middle_mp2dp_virt_jointbody"/>
      <child link="middle_dp_virt"/>
      <origin xyz="-0.0 -0.0037000000000999996 -0.0" rpy="0.0 0.0 0.0"/>
   </joint>
   <link name="middle_dp">
      <inertial>
         <origin xyz="3.0280177180663673e-05 0.0031179204392796566 0.0076814262845085746" rpy="0.00823787222220096 0.050673311372765095 1.5580538179925818"/>
         <mass value="0.002165187096269976"/>
         <inertia ixx="1.0756444680126282e-07" iyy="9.22710567268227e-08" izz="2.9564221225540638e-08" ixy="0" ixz="0" iyz="0"/>
      </inertial>
      <visual name="middle_dp">
         <origin xyz="3.0280177180663673e-05 0.0031179204392796566 0.0076814262845085746" rpy="0.00823787222220096 0.050673311372765095 1.5580538179925818"/>
         <geometry>
            <mesh filename="package://viz/models/URDF_Simulation/converted_middle_dp.stl"/>
         </geometry>
         <material name="white"/>
      </visual>
   </link>
   <link name="middle_mp2dp_jointbody">
      <inertial>
         <origin xyz="0.0 0.0 0.0" rpy="0.0 0.0 0.0"/>
         <mass value="0.001"/>
         <inertia ixx="1e-09" iyy="1e-09" izz="1e-09" ixy="0" ixz="0" iyz="0"/>
      </inertial>
   </link>
   <joint type="revolute" name="middle_mp2dp">
      <parent link="middle_dp_virt"/>
      <child link="middle_mp2dp_jointbody"/>
      <origin xyz="0.0 0.0035000000000999995 0.009" rpy="0.0 0.0 0.0"/>
      <axis xyz="1.0 0.0 0.0"/>
      <limit lower="-0.093" upper="0.682" effort="100" velocity="100"/>
   </joint>
   <joint type="fixed" name="middle_mp2dp_offset">
      <parent link="middle_mp2dp_jointbody"/>
      <child link="middle_dp"/>
      <origin xyz="-0.0 -0.0035000000000999995 -0.0" rpy="0.0 0.0 0.0"/>
   </joint>
   <link name="middle_fingertip">
      <inertial>
         <origin xyz="0.0 0.0 0.01" rpy="0.0 0.0 0.0"/>
         <mass value="0.0"/>
         <inertia ixx="0.0" iyy="0.0" izz="0.0" ixy="0" ixz="0" iyz="0"/>
      </inertial>
   </link>
   <link name="middle_dp2middle_fingertip_fixed_jointbody">
      <inertial>
         <origin xyz="0.0 0.0 0.0" rpy="0.0 0.0 0.0"/>
         <mass value="0.001"/>
         <inertia ixx="1e-09" iyy="1e-09" izz="1e-09" ixy="0" ixz="0" iyz="0"/>
      </inertial>
   </link>
   <joint type="fixed" name="middle_dp2middle_fingertip_fixed">
      <parent link="middle_dp"/>
      <child link="middle_dp2middle_fingertip_fixed_jointbody"/>
      <origin xyz="0.0 0.0 0.01" rpy="0.0 0.0 0.0"/>
   </joint>
   <joint type="fixed" name="middle_dp2middle_fingertip_fixed_offset">
      <parent link="middle_dp2middle_fingertip_fixed_jointbody"/>
      <child link="middle_fingertip"/>
      <origin xyz="-0.0 -0.0 -0.0" rpy="0.0 0.0 0.0"/>
   </joint>
   <link name="ring_um_virt">
      <inertial>
         <origin xyz="0.0 0.0 0.0" rpy="0.0 0.0 0.0"/>
         <mass value="0.001"/>
         <inertia ixx="4e-10" iyy="4e-10" izz="3e-10" ixy="0" ixz="0" iyz="0"/>
      </inertial>
   </link>
   <link name="ring_abd_virt_jointbody">
      <inertial>
         <origin xyz="0.0 0.0 0.0" rpy="0.0 0.0 0.0"/>
         <mass value="0.001"/>
         <inertia ixx="1e-09" iyy="1e-09" izz="1e-09" ixy="0" ixz="0" iyz="0"/>
      </inertial>
   </link>
   <joint type="revolute" name="ring_abd_virt">
      <parent link="palm"/>
      <child link="ring_abd_virt_jointbody"/>
      <origin xyz="-0.017817999999999997 0.0852 0.0" rpy="-1.5707963267948966 1.5707963267948966 0.0"/>
      <axis xyz="1.0 0.0 0.0"/>
      <limit lower="-0.264" upper="0.264" effort="100" velocity="100"/>
   </joint>
   <joint type="fixed" name="ring_abd_virt_offset">
      <parent link="ring_abd_virt_jointbody"/>
      <child link="ring_um_virt"/>
      <origin xyz="-0.0 -0.0 -0.0" rpy="0.0 0.0 0.0"/>
   </joint>
   <link name="ring_um">
      <inertial>
         <origin xyz="0.00031526315659068625 -4.483507673610013e-05 -0.0035895413100712256" rpy="3.1134418321345594 -1.2906456267839208 -3.1026201147835684"/>
         <mass value="0.0017045161564725113"/>
         <inertia ixx="4.089294671130922e-08" iyy="3.323975046971373e-08" izz="2.9482536116204133e-08" ixy="0" ixz="0" iyz="0"/>
      </inertial>
      <visual name="ring_um">
         <origin xyz="0.00031526315659068625 -4.483507673610013e-05 -0.0035895413100712256" rpy="3.11344183213456 -1.2906456267839206 -3.102620114783569"/>
         <geometry>
            <mesh filename="package://viz/models/URDF_Simulation/converted_ring_um.stl"/>
         </geometry>
         <material name="white"/>
      </visual>
   </link>
   <link name="ring_abd_jointbody">
      <inertial>
         <origin xyz="0.0 0.0 0.0" rpy="0.0 0.0 0.0"/>
         <mass value="0.001"/>
         <inertia ixx="1e-09" iyy="1e-09" izz="1e-09" ixy="0" ixz="0" iyz="0"/>
      </inertial>
   </link>
   <joint type="revolute" name="ring_abd">
      <parent link="ring_um_virt"/>
      <child link="ring_abd_jointbody"/>
      <origin xyz="0.0 0.0 0.018" rpy="0.0 0.0 0.0"/>
      <axis xyz="1.0 0.0 0.0"/>
      <limit lower="-0.264" upper="0.264" effort="100" velocity="100"/>
   </joint>
   <joint type="fixed" name="ring_abd_offset">
      <parent link="ring_abd_jointbody"/>
      <child link="ring_um"/>
      <origin xyz="-0.0 -0.0 -0.0" rpy="0.0 0.0 0.0"/>
   </joint>
   <link name="ring_pp_virt">
      <inertial>
         <origin xyz="0.0 0.0 0.0" rpy="0.0 0.0 0.0"/>
         <mass value="0.001"/>
         <inertia ixx="4e-10" iyy="4e-10" izz="3e-10" ixy="0" ixz="0" iyz="0"/>
      </inertial>
   </link>
   <link name="root2ring_pp_virt_jointbody">
      <inertial>
         <origin xyz="0.0 0.0 0.0" rpy="0.0 0.0 0.0"/>
         <mass value="0.001"/>
         <inertia ixx="1e-09" iyy="1e-09" izz="1e-09" ixy="0" ixz="0" iyz="0"/>
      </inertial>
   </link>
   <joint type="revolute" name="root2ring_pp_virt">
      <parent link="ring_um"/>
      <child link="root2ring_pp_virt_jointbody"/>
      <origin xyz="0.002700001023199999 5.99520660493624e-19 -0.00743303472" rpy="0.0 0.0 -1.5707963267948963"/>
      <axis xyz="1.0 0.0 0.0"/>
      <limit lower="-0.157" upper="0.829" effort="100" velocity="100"/>
   </joint>
   <joint type="fixed" name="root2ring_pp_virt_offset">
      <parent link="root2ring_pp_virt_jointbody"/>
      <child link="ring_pp_virt"/>
      <origin xyz="-0.0 -0.002700001023199999 -0.0" rpy="0.0 0.0 0.0"/>
   </joint>
   <link name="ring_pp">
      <inertial>
         <origin xyz="-2.4317783143122662e-05 0.0010990088577848291 0.012970488715408169" rpy="-0.0005635947558751964 0.04346039485505382 1.5731856208599835"/>
         <mass value="0.006934011983539235"/>
         <inertia ixx="1.1618492939118344e-06" iyy="1.1338221765005137e-06" izz="1.5329642762575548e-07" ixy="0" ixz="0" iyz="0"/>
      </inertial>
      <visual name="ring_pp">
         <origin xyz="-2.4317783143122662e-05 0.0010990088577848291 0.012970488715408169" rpy="-0.0005635947558753074 0.0434603948550536 1.5731856208599835"/>
         <geometry>
            <mesh filename="package://viz/models/URDF_Simulation/converted_ring_pp.stl"/>
         </geometry>
         <material name="white"/>
      </visual>
   </link>
   <link name="root2ring_pp_jointbody">
      <inertial>
         <origin xyz="0.0 0.0 0.0" rpy="0.0 0.0 0.0"/>
         <mass value="0.001"/>
         <inertia ixx="1e-09" iyy="1e-09" izz="1e-09" ixy="0" ixz="0" iyz="0"/>
      </inertial>
   </link>
   <joint type="revolute" name="root2ring_pp">
      <parent link="ring_pp_virt"/>
      <child link="root2ring_pp_jointbody"/>
      <origin xyz="0.0 0.002500001023199999 0.018" rpy="0.0 0.0 0.0"/>
      <axis xyz="1.0 0.0 0.0"/>
      <limit lower="-0.157" upper="0.829" effort="100" velocity="100"/>
   </joint>
   <joint type="fixed" name="root2ring_pp_offset">
      <parent link="root2ring_pp_jointbody"/>
      <child link="ring_pp"/>
      <origin xyz="-0.0 -0.002500001023199999 -0.0" rpy="0.0 0.0 0.0"/>
   </joint>
   <link name="ring_pp_sens">
      <inertial>
         <origin xyz="0.0 -0.004 0.018" rpy="0.0 0.0 0.0"/>
         <mass value="0.0"/>
         <inertia ixx="0.0" iyy="0.0" izz="0.0" ixy="0" ixz="0" iyz="0"/>
      </inertial>
   </link>
   <link name="ring_pp2ring_pp_sens_fixed_jointbody">
      <inertial>
         <origin xyz="0.0 0.0 0.0" rpy="0.0 0.0 0.0"/>
         <mass value="0.001"/>
         <inertia ixx="1e-09" iyy="1e-09" izz="1e-09" ixy="0" ixz="0" iyz="0"/>
      </inertial>
   </link>
   <joint type="fixed" name="ring_pp2ring_pp_sens_fixed">
      <parent link="ring_pp"/>
      <child link="ring_pp2ring_pp_sens_fixed_jointbody"/>
      <origin xyz="0.0 -0.004 0.018" rpy="0.0 0.0 0.0"/>
   </joint>
   <joint type="fixed" name="ring_pp2ring_pp_sens_fixed_offset">
      <parent link="ring_pp2ring_pp_sens_fixed_jointbody"/>
      <child link="ring_pp_sens"/>
      <origin xyz="-0.0 -0.0 -0.0" rpy="0.0 0.0 0.0"/>
   </joint>
   <link name="ring_mp_virt">
      <inertial>
         <origin xyz="0.0 0.0 0.0" rpy="0.0 0.0 0.0"/>
         <mass value="0.001"/>
         <inertia ixx="4e-10" iyy="4e-10" izz="3e-10" ixy="0" ixz="0" iyz="0"/>
      </inertial>
   </link>
   <link name="ring_pp2mp_virt_jointbody">
      <inertial>
         <origin xyz="0.0 0.0 0.0" rpy="0.0 0.0 0.0"/>
         <mass value="0.001"/>
         <inertia ixx="1e-09" iyy="1e-09" izz="1e-09" ixy="0" ixz="0" iyz="0"/>
      </inertial>
   </link>
   <joint type="revolute" name="ring_pp2mp_virt">
      <parent link="ring_pp"/>
      <child link="ring_pp2mp_virt_jointbody"/>
      <origin xyz="0.0 0.0037000000000999996 0.03101612481" rpy="0.0 0.0 0.0"/>
      <axis xyz="1.0 0.0 0.0"/>
      <limit lower="-0.131" upper="0.96" effort="100" velocity="100"/>
   </joint>
   <joint type="fixed" name="ring_pp2mp_virt_offset">
      <parent link="ring_pp2mp_virt_jointbody"/>
      <child link="ring_mp_virt"/>
      <origin xyz="-0.0 -0.0037000000000999996 -0.0" rpy="0.0 0.0 0.0"/>
   </joint>
   <link name="ring_mp">
      <inertial>
         <origin xyz="-6.783052399634767e-05 0.002416218630794026 0.011184144137765306" rpy="0.005169070242558416 0.005498569028424383 1.568902720116945"/>
         <mass value="0.00391743874952473"/>
         <inertia ixx="3.710686435522325e-07" iyy="3.400719694509783e-07" izz="7.116706680564789e-08" ixy="0" ixz="0" iyz="0"/>
      </inertial>
      <visual name="ring_mp">
         <origin xyz="-6.783052399634767e-05 0.002416218630794026 0.011184144137765306" rpy="0.005169070242558416 0.005498569028424383 1.568902720116945"/>
         <geometry>
            <mesh filename="package://viz/models/URDF_Simulation/converted_ring_mp.stl"/>
         </geometry>
         <material name="white"/>
      </visual>
   </link>
   <link name="ring_pp2mp_jointbody">
      <inertial>
         <origin xyz="0.0 0.0 0.0" rpy="0.0 0.0 0.0"/>
         <mass value="0.001"/>
         <inertia ixx="1e-09" iyy="1e-09" izz="1e-09" ixy="0" ixz="0" iyz="0"/>
      </inertial>
   </link>
   <joint type="revolute" name="ring_pp2mp">
      <parent link="ring_mp_virt"/>
      <child link="ring_pp2mp_jointbody"/>
      <origin xyz="0.0 0.0035000000000999995 0.012" rpy="0.0 0.0 0.0"/>
      <axis xyz="1.0 0.0 0.0"/>
      <limit lower="-0.131" upper="0.96" effort="100" velocity="100"/>
   </joint>
   <joint type="fixed" name="ring_pp2mp_offset">
      <parent link="ring_pp2mp_jointbody"/>
      <child link="ring_mp"/>
      <origin xyz="-0.0 -0.0035000000000999995 -0.0" rpy="0.0 0.0 0.0"/>
   </joint>
   <link name="ring_dp_virt">
      <inertial>
         <origin xyz="0.0 0.0 0.0" rpy="0.0 0.0 0.0"/>
         <mass value="0.001"/>
         <inertia ixx="4e-10" iyy="4e-10" izz="3e-10" ixy="0" ixz="0" iyz="0"/>
      </inertial>
   </link>
   <link name="ring_mp2dp_virt_jointbody">
      <inertial>
         <origin xyz="0.0 0.0 0.0" rpy="0.0 0.0 0.0"/>
         <mass value="0.001"/>
         <inertia ixx="1e-09" iyy="1e-09" izz="1e-09" ixy="0" ixz="0" iyz="0"/>
      </inertial>
   </link>
   <joint type="revolute" name="ring_mp2dp_virt">
      <parent link="ring_mp"/>
      <child link="ring_mp2dp_virt_jointbody"/>
      <origin xyz="0.0 0.0037000000000999996 0.0235" rpy="0.0 0.0 0.0"/>
      <axis xyz="1.0 0.0 0.0"/>
      <limit lower="-0.093" upper="0.682" effort="100" velocity="100"/>
   </joint>
   <joint type="fixed" name="ring_mp2dp_virt_offset">
      <parent link="ring_mp2dp_virt_jointbody"/>
      <child link="ring_dp_virt"/>
      <origin xyz="-0.0 -0.0037000000000999996 -0.0" rpy="0.0 0.0 0.0"/>
   </joint>
   <link name="ring_dp">
      <inertial>
         <origin xyz="-6.447194909310963e-05 0.003120131877622198 0.007661905288122245" rpy="-0.001893780008492163 0.05085216250260771 1.5852087171365512"/>
         <mass value="0.0021639273972605794"/>
         <inertia ixx="1.0745931609543126e-07" iyy="9.222697287325353e-08" izz="2.9490220566203e-08" ixy="0" ixz="0" iyz="0"/>
      </inertial>
      <visual name="ring_dp">
         <origin xyz="-6.447194909310963e-05 0.003120131877622198 0.007661905288122245" rpy="-0.001893780008492163 0.05085216250260771 1.5852087171365514"/>
         <geometry>
            <mesh filename="package://viz/models/URDF_Simulation/converted_ring_dp.stl"/>
         </geometry>
         <material name="white"/>
      </visual>
   </link>
   <link name="ring_mp2dp_jointbody">
      <inertial>
         <origin xyz="0.0 0.0 0.0" rpy="0.0 0.0 0.0"/>
         <mass value="0.001"/>
         <inertia ixx="1e-09" iyy="1e-09" izz="1e-09" ixy="0" ixz="0" iyz="0"/>
      </inertial>
   </link>
   <joint type="revolute" name="ring_mp2dp">
      <parent link="ring_dp_virt"/>
      <child link="ring_mp2dp_jointbody"/>
      <origin xyz="0.0 0.0035000000000999995 0.009" rpy="0.0 0.0 0.0"/>
      <axis xyz="1.0 0.0 0.0"/>
      <limit lower="-0.093" upper="0.682" effort="100" velocity="100"/>
   </joint>
   <joint type="fixed" name="ring_mp2dp_offset">
      <parent link="ring_mp2dp_jointbody"/>
      <child link="ring_dp"/>
      <origin xyz="-0.0 -0.0035000000000999995 -0.0" rpy="0.0 0.0 0.0"/>
   </joint>
   <link name="ring_fingertip">
      <inertial>
         <origin xyz="0.0 0.0 0.01" rpy="0.0 0.0 0.0"/>
         <mass value="0.0"/>
         <inertia ixx="0.0" iyy="0.0" izz="0.0" ixy="0" ixz="0" iyz="0"/>
      </inertial>
   </link>
   <link name="ring_dp2ring_fingertip_fixed_jointbody">
      <inertial>
         <origin xyz="0.0 0.0 0.0" rpy="0.0 0.0 0.0"/>
         <mass value="0.001"/>
         <inertia ixx="1e-09" iyy="1e-09" izz="1e-09" ixy="0" ixz="0" iyz="0"/>
      </inertial>
   </link>
   <joint type="fixed" name="ring_dp2ring_fingertip_fixed">
      <parent link="ring_dp"/>
      <child link="ring_dp2ring_fingertip_fixed_jointbody"/>
      <origin xyz="0.0 0.0 0.01" rpy="0.0 0.0 0.0"/>
   </joint>
   <joint type="fixed" name="ring_dp2ring_fingertip_fixed_offset">
      <parent link="ring_dp2ring_fingertip_fixed_jointbody"/>
      <child link="ring_fingertip"/>
      <origin xyz="-0.0 -0.0 -0.0" rpy="0.0 0.0 0.0"/>
   </joint>
   <link name="pinky_um_virt">
      <inertial>
         <origin xyz="0.0 0.0 0.0" rpy="0.0 0.0 0.0"/>
         <mass value="0.001"/>
         <inertia ixx="4e-10" iyy="4e-10" izz="3e-10" ixy="0" ixz="0" iyz="0"/>
      </inertial>
   </link>
   <link name="pinky_abd_virt_jointbody">
      <inertial>
         <origin xyz="0.0 0.0 0.0" rpy="0.0 0.0 0.0"/>
         <mass value="0.001"/>
         <inertia ixx="1e-09" iyy="1e-09" izz="1e-09" ixy="0" ixz="0" iyz="0"/>
      </inertial>
   </link>
   <joint type="revolute" name="pinky_abd_virt">
      <parent link="palm"/>
      <child link="pinky_abd_virt_jointbody"/>
      <origin xyz="-0.03931395 0.0815 0.0" rpy="-1.5707963267948966 1.5707963267948966 0.0"/>
      <axis xyz="1.0 0.0 0.0"/>
      <limit lower="-0.264" upper="0.264" effort="100" velocity="100"/>
   </joint>
   <joint type="fixed" name="pinky_abd_virt_offset">
      <parent link="pinky_abd_virt_jointbody"/>
      <child link="pinky_um_virt"/>
      <origin xyz="-0.0 -0.0 -0.0" rpy="0.0 0.0 0.0"/>
   </joint>
   <link name="pinky_um">
      <inertial>
         <origin xyz="0.0003137018308382922 -4.3327904489992575e-05 -0.003588735077300156" rpy="3.113495656532974 -1.2922565745690526 -3.099483256875682"/>
         <mass value="0.001706479287008203"/>
         <inertia ixx="4.090623492327608e-08" iyy="3.326893495119032e-08" izz="2.9518955384678924e-08" ixy="0" ixz="0" iyz="0"/>
      </inertial>
      <visual name="pinky_um">
         <origin xyz="0.0003137018308382922 -4.3327904489992575e-05 -0.003588735077300156" rpy="3.1134956565329746 -1.2922565745690526 -3.0994832568756823"/>
         <geometry>
            <mesh filename="package://viz/models/URDF_Simulation/converted_pinky_um.stl"/>
         </geometry>
         <material name="white"/>
      </visual>
   </link>
   <link name="pinky_abd_jointbody">
      <inertial>
         <origin xyz="0.0 0.0 0.0" rpy="0.0 0.0 0.0"/>
         <mass value="0.001"/>
         <inertia ixx="1e-09" iyy="1e-09" izz="1e-09" ixy="0" ixz="0" iyz="0"/>
      </inertial>
   </link>
   <joint type="revolute" name="pinky_abd">
      <parent link="pinky_um_virt"/>
      <child link="pinky_abd_jointbody"/>
      <origin xyz="0.0 0.0 0.018" rpy="0.0 0.0 0.0"/>
      <axis xyz="1.0 0.0 0.0"/>
      <limit lower="-0.264" upper="0.264" effort="100" velocity="100"/>
   </joint>
   <joint type="fixed" name="pinky_abd_offset">
      <parent link="pinky_abd_jointbody"/>
      <child link="pinky_um"/>
      <origin xyz="-0.0 -0.0 -0.0" rpy="0.0 0.0 0.0"/>
   </joint>
   <link name="pinky_pp_virt">
      <inertial>
         <origin xyz="0.0 0.0 0.0" rpy="0.0 0.0 0.0"/>
         <mass value="0.001"/>
         <inertia ixx="4e-10" iyy="4e-10" izz="3e-10" ixy="0" ixz="0" iyz="0"/>
      </inertial>
   </link>
   <link name="root2pinky_pp_virt_jointbody">
      <inertial>
         <origin xyz="0.0 0.0 0.0" rpy="0.0 0.0 0.0"/>
         <mass value="0.001"/>
         <inertia ixx="1e-09" iyy="1e-09" izz="1e-09" ixy="0" ixz="0" iyz="0"/>
      </inertial>
   </link>
   <joint type="revolute" name="root2pinky_pp_virt">
      <parent link="pinky_um"/>
      <child link="root2pinky_pp_virt_jointbody"/>
      <origin xyz="0.00270000102 5.9952065978308155e-19 -0.00743303472" rpy="0.0 0.0 -1.5707963267948963"/>
      <axis xyz="1.0 0.0 0.0"/>
      <limit lower="-0.157" upper="0.829" effort="100" velocity="100"/>
   </joint>
   <joint type="fixed" name="root2pinky_pp_virt_offset">
      <parent link="root2pinky_pp_virt_jointbody"/>
      <child link="pinky_pp_virt"/>
      <origin xyz="-0.0 -0.00270000102 -0.0" rpy="0.0 0.0 0.0"/>
   </joint>
   <link name="pinky_pp">
      <inertial>
         <origin xyz="-2.109461568381571e-05 0.000996163274490867 0.011153640747459392" rpy="-0.0005633739671052629 0.04664075180888805 1.5728100242694358"/>
         <mass value="0.006411007113106174"/>
         <inertia ixx="8.839796343393693e-07" iyy="8.605669091164771e-07" izz="1.4433356510402823e-07" ixy="0" ixz="0" iyz="0"/>
      </inertial>
      <visual name="pinky_pp">
         <origin xyz="-2.109461568381571e-05 0.000996163274490867 0.011153640747459392" rpy="-0.0005633739671052629 0.04664075180888805 1.5728100242694358"/>
         <geometry>
            <mesh filename="package://viz/models/URDF_Simulation/converted_pinky_pp.stl"/>
         </geometry>
         <material name="white"/>
      </visual>
   </link>
   <link name="root2pinky_pp_jointbody">
      <inertial>
         <origin xyz="0.0 0.0 0.0" rpy="0.0 0.0 0.0"/>
         <mass value="0.001"/>
         <inertia ixx="1e-09" iyy="1e-09" izz="1e-09" ixy="0" ixz="0" iyz="0"/>
      </inertial>
   </link>
   <joint type="revolute" name="root2pinky_pp">
      <parent link="pinky_pp_virt"/>
      <child link="root2pinky_pp_jointbody"/>
      <origin xyz="0.0 0.00250000102 0.018" rpy="0.0 0.0 0.0"/>
      <axis xyz="1.0 0.0 0.0"/>
      <limit lower="-0.157" upper="0.829" effort="100" velocity="100"/>
   </joint>
   <joint type="fixed" name="root2pinky_pp_offset">
      <parent link="root2pinky_pp_jointbody"/>
      <child link="pinky_pp"/>
      <origin xyz="-0.0 -0.00250000102 -0.0" rpy="0.0 0.0 0.0"/>
   </joint>
   <link name="pinky_pp_sens">
      <inertial>
         <origin xyz="0.0 -0.004 0.015" rpy="0.0 0.0 0.0"/>
         <mass value="0.0"/>
         <inertia ixx="0.0" iyy="0.0" izz="0.0" ixy="0" ixz="0" iyz="0"/>
      </inertial>
   </link>
   <link name="pinky_pp2pinky_pp_sens_fixed_jointbody">
      <inertial>
         <origin xyz="0.0 0.0 0.0" rpy="0.0 0.0 0.0"/>
         <mass value="0.001"/>
         <inertia ixx="1e-09" iyy="1e-09" izz="1e-09" ixy="0" ixz="0" iyz="0"/>
      </inertial>
   </link>
   <joint type="fixed" name="pinky_pp2pinky_pp_sens_fixed">
      <parent link="pinky_pp"/>
      <child link="pinky_pp2pinky_pp_sens_fixed_jointbody"/>
      <origin xyz="0.0 -0.004 0.015" rpy="0.0 0.0 0.0"/>
   </joint>
   <joint type="fixed" name="pinky_pp2pinky_pp_sens_fixed_offset">
      <parent link="pinky_pp2pinky_pp_sens_fixed_jointbody"/>
      <child link="pinky_pp_sens"/>
      <origin xyz="-0.0 -0.0 -0.0" rpy="0.0 0.0 0.0"/>
   </joint>
   <link name="pinky_mp_virt">
      <inertial>
         <origin xyz="0.0 0.0 0.0" rpy="0.0 0.0 0.0"/>
         <mass value="0.001"/>
         <inertia ixx="4e-10" iyy="4e-10" izz="3e-10" ixy="0" ixz="0" iyz="0"/>
      </inertial>
   </link>
   <link name="pinky_pp2mp_virt_jointbody">
      <inertial>
         <origin xyz="0.0 0.0 0.0" rpy="0.0 0.0 0.0"/>
         <mass value="0.001"/>
         <inertia ixx="1e-09" iyy="1e-09" izz="1e-09" ixy="0" ixz="0" iyz="0"/>
      </inertial>
   </link>
   <joint type="revolute" name="pinky_pp2mp_virt">
      <parent link="pinky_pp"/>
      <child link="pinky_pp2mp_virt_jointbody"/>
      <origin xyz="0.0 0.00370000102 0.02701851213434598" rpy="0.0 0.0 0.0"/>
      <axis xyz="1.0 0.0 0.0"/>
      <limit lower="-0.131" upper="0.96" effort="100" velocity="100"/>
   </joint>
   <joint type="fixed" name="pinky_pp2mp_virt_offset">
      <parent link="pinky_pp2mp_virt_jointbody"/>
      <child link="pinky_mp_virt"/>
      <origin xyz="-0.0 -0.00370000102 -0.0" rpy="0.0 0.0 0.0"/>
   </joint>
   <link name="pinky_mp">
      <inertial>
         <origin xyz="-5.650322932876373e-05 0.0022775589837975138 0.009212500242364308" rpy="0.004881996418440782 0.005874182493044833 1.5691948119058772"/>
         <mass value="0.0035266787657145257"/>
         <inertia ixx="2.591198468813237e-07" iyy="2.327720232400065e-07" izz="6.529283109208708e-08" ixy="0" ixz="0" iyz="0"/>
      </inertial>
      <visual name="pinky_mp">
         <origin xyz="-5.650322932876373e-05 0.0022775589837975138 0.009212500242364308" rpy="0.004881996418440782 0.005874182493044833 1.569194811905877"/>
         <geometry>
            <mesh filename="package://viz/models/URDF_Simulation/converted_pinky_mp.stl"/>
         </geometry>
         <material name="white"/>
      </visual>
   </link>
   <link name="pinky_pp2mp_jointbody">
      <inertial>
         <origin xyz="0.0 0.0 0.0" rpy="0.0 0.0 0.0"/>
         <mass value="0.001"/>
         <inertia ixx="1e-09" iyy="1e-09" izz="1e-09" ixy="0" ixz="0" iyz="0"/>
      </inertial>
   </link>
   <joint type="revolute" name="pinky_pp2mp">
      <parent link="pinky_mp_virt"/>
      <child link="pinky_pp2mp_jointbody"/>
      <origin xyz="0.0 0.00350000102 0.011999999999999999" rpy="0.0 0.0 0.0"/>
      <axis xyz="1.0 0.0 0.0"/>
      <limit lower="-0.131" upper="0.96" effort="100" velocity="100"/>
   </joint>
   <joint type="fixed" name="pinky_pp2mp_offset">
      <parent link="pinky_pp2mp_jointbody"/>
      <child link="pinky_mp"/>
      <origin xyz="-0.0 -0.00350000102 -0.0" rpy="0.0 0.0 0.0"/>
   </joint>
   <link name="pinky_dp_virt">
      <inertial>
         <origin xyz="0.0 0.0 0.0" rpy="0.0 0.0 0.0"/>
         <mass value="0.001"/>
         <inertia ixx="4e-10" iyy="4e-10" izz="3e-10" ixy="0" ixz="0" iyz="0"/>
      </inertial>
   </link>
   <link name="pinky_mp2dp_virt_jointbody">
      <inertial>
         <origin xyz="0.0 0.0 0.0" rpy="0.0 0.0 0.0"/>
         <mass value="0.001"/>
         <inertia ixx="1e-09" iyy="1e-09" izz="1e-09" ixy="0" ixz="0" iyz="0"/>
      </inertial>
   </link>
   <joint type="revolute" name="pinky_mp2dp_virt">
      <parent link="pinky_mp"/>
      <child link="pinky_mp2dp_virt_jointbody"/>
      <origin xyz="0.0 0.00370000102 0.0195" rpy="0.0 0.0 0.0"/>
      <axis xyz="1.0 0.0 0.0"/>
      <limit lower="-0.093" upper="0.682" effort="100" velocity="100"/>
   </joint>
   <joint type="fixed" name="pinky_mp2dp_virt_offset">
      <parent link="pinky_mp2dp_virt_jointbody"/>
      <child link="pinky_dp_virt"/>
      <origin xyz="-0.0 -0.00370000102 -0.0" rpy="0.0 0.0 0.0"/>
   </joint>
   <link name="pinky_dp">
      <inertial>
         <origin xyz="-7.350958926732876e-06 0.0032238257911780463 0.007640724715587549" rpy="0.0038160751754089395 0.053495156395318766 1.57056799955947"/>
         <mass value="0.002076623300267396"/>
         <inertia ixx="1.0632503961582051e-07" iyy="9.094510215249103e-08" izz="2.870836456430631e-08" ixy="0" ixz="0" iyz="0"/>
      </inertial>
      <visual name="pinky_dp">
         <origin xyz="-7.350958926732876e-06 0.0032238257911780463 0.007640724715587549" rpy="0.0038160751754088285 0.053495156395318766 1.57056799955947"/>
         <geometry>
            <mesh filename="package://viz/models/URDF_Simulation/converted_pinky_dp.stl"/>
         </geometry>
         <material name="white"/>
      </visual>
   </link>
   <link name="pinky_mp2dp_jointbody">
      <inertial>
         <origin xyz="0.0 0.0 0.0" rpy="0.0 0.0 0.0"/>
         <mass value="0.001"/>
         <inertia ixx="1e-09" iyy="1e-09" izz="1e-09" ixy="0" ixz="0" iyz="0"/>
      </inertial>
   </link>
   <joint type="revolute" name="pinky_mp2dp">
      <parent link="pinky_dp_virt"/>
      <child link="pinky_mp2dp_jointbody"/>
      <origin xyz="0.0 0.00350000102 0.008999999999999998" rpy="0.0 0.0 0.0"/>
      <axis xyz="1.0 0.0 0.0"/>
      <limit lower="-0.093" upper="0.682" effort="100" velocity="100"/>
   </joint>
   <joint type="fixed" name="pinky_mp2dp_offset">
      <parent link="pinky_mp2dp_jointbody"/>
      <child link="pinky_dp"/>
      <origin xyz="-0.0 -0.00350000102 -0.0" rpy="0.0 0.0 0.0"/>
   </joint>
   <link name="pinky_fingertip">
      <inertial>
         <origin xyz="0.0 0.0 0.01" rpy="0.0 0.0 0.0"/>
         <mass value="0.0"/>
         <inertia ixx="0.0" iyy="0.0" izz="0.0" ixy="0" ixz="0" iyz="0"/>
      </inertial>
   </link>
   <link name="pinky_dp2pinky_fingertip_fixed_jointbody">
      <inertial>
         <origin xyz="0.0 0.0 0.0" rpy="0.0 0.0 0.0"/>
         <mass value="0.001"/>
         <inertia ixx="1e-09" iyy="1e-09" izz="1e-09" ixy="0" ixz="0" iyz="0"/>
      </inertial>
   </link>
   <joint type="fixed" name="pinky_dp2pinky_fingertip_fixed">
      <parent link="pinky_dp"/>
      <child link="pinky_dp2pinky_fingertip_fixed_jointbody"/>
      <origin xyz="0.0 0.0 0.01" rpy="0.0 0.0 0.0"/>
   </joint>
   <joint type="fixed" name="pinky_dp2pinky_fingertip_fixed_offset">
      <parent link="pinky_dp2pinky_fingertip_fixed_jointbody"/>
      <child link="pinky_fingertip"/>
      <origin xyz="-0.0 -0.0 -0.0" rpy="0.0 0.0 0.0"/>
   </joint>
   <material name="white">
      <color rgba="1 1 1 1"/>
   </material>
</robot>
